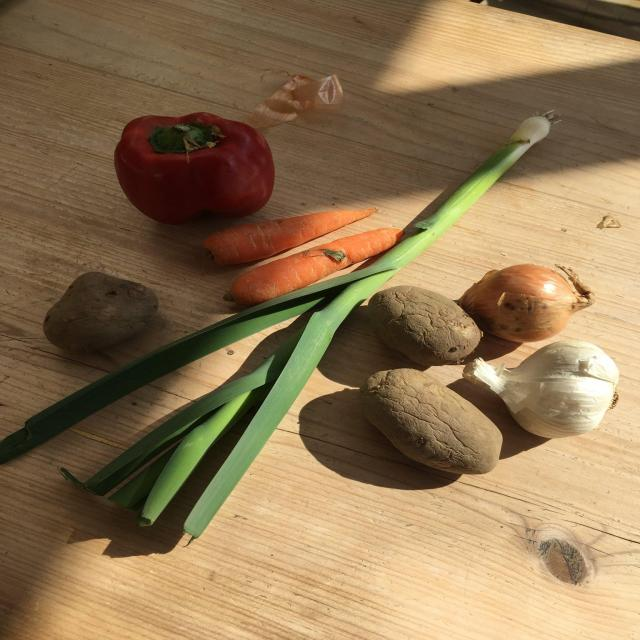Carrot: (221, 221, 412, 306), (200, 206, 384, 269)
Potato: (356, 365, 504, 487), (33, 262, 166, 359), (362, 285, 485, 365)
